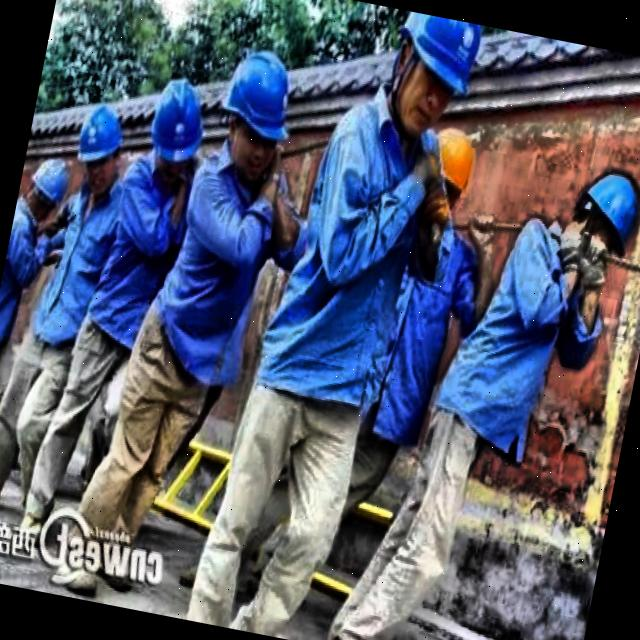helmet: (378, 12, 488, 148), (212, 39, 304, 188), (557, 158, 640, 281), (138, 75, 216, 195), (420, 122, 480, 228), (69, 98, 132, 193), (25, 154, 77, 230)
